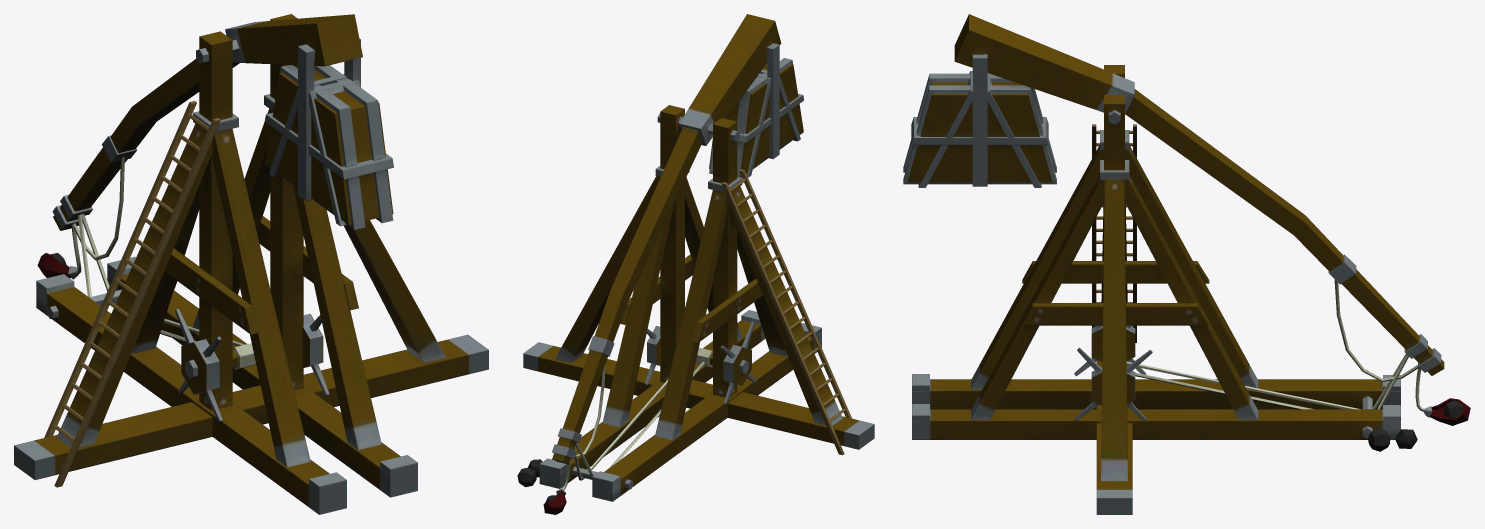
Rendered from trebuchet2.glb.
The picture shows the model from 3 angles, left to right: view 1: azimuth 30°, elevation 25°; view 2: azimuth 150°, elevation 25°; view 3: azimuth 270°, elevation 25°; orthographic projection. The views are drawn at different scales.
Visible parts, largest first — view 1: Trebuchet; view 2: Trebuchet; view 3: Trebuchet.
Boxes of the visible parts, bbox=[...] form: Trebuchet: bbox=[14, 14, 488, 514]; Trebuchet: bbox=[517, 14, 874, 514]; Trebuchet: bbox=[903, 14, 1470, 514].
Size of the model in its own units: 1.6 by 1.58 by 2.
1 material, 1 textured.
